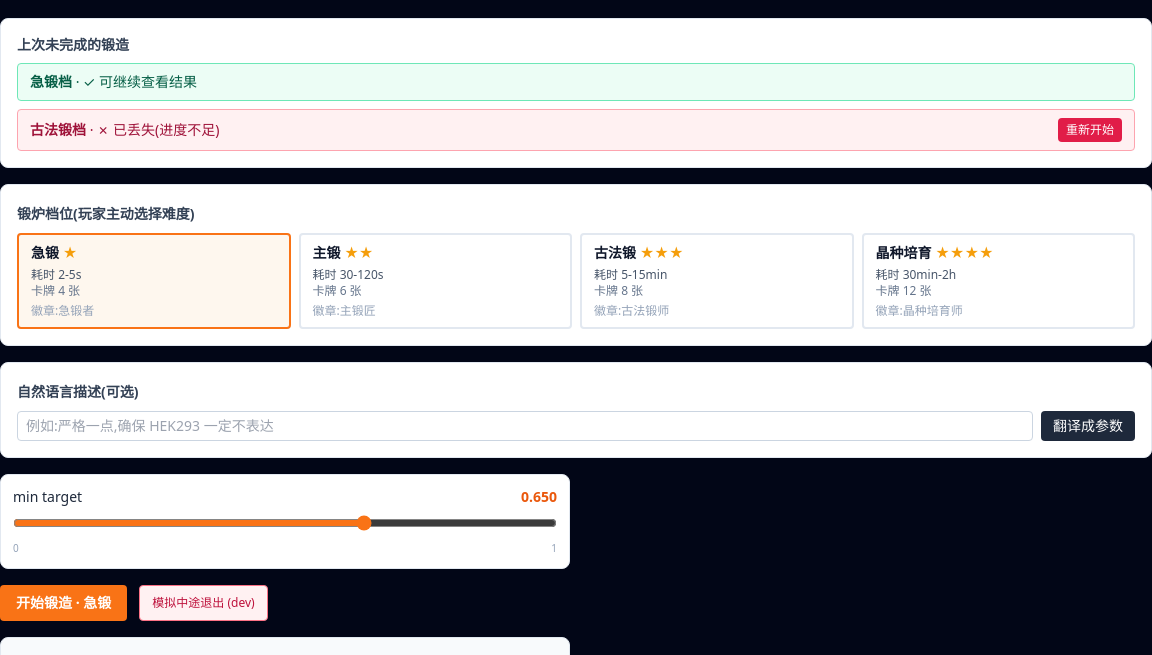
ForgePage · error banner (Phase 3 Task 6 P0-A2) › shows red "计算过程中出现错误" banner when errors are non-empty
Check: the element with test id "ritual-selector" is shown, box [0, 184, 1151, 346]
Click the button with test id "forge-run" at [64, 603], box [0, 585, 127, 621]
(page scrolled)
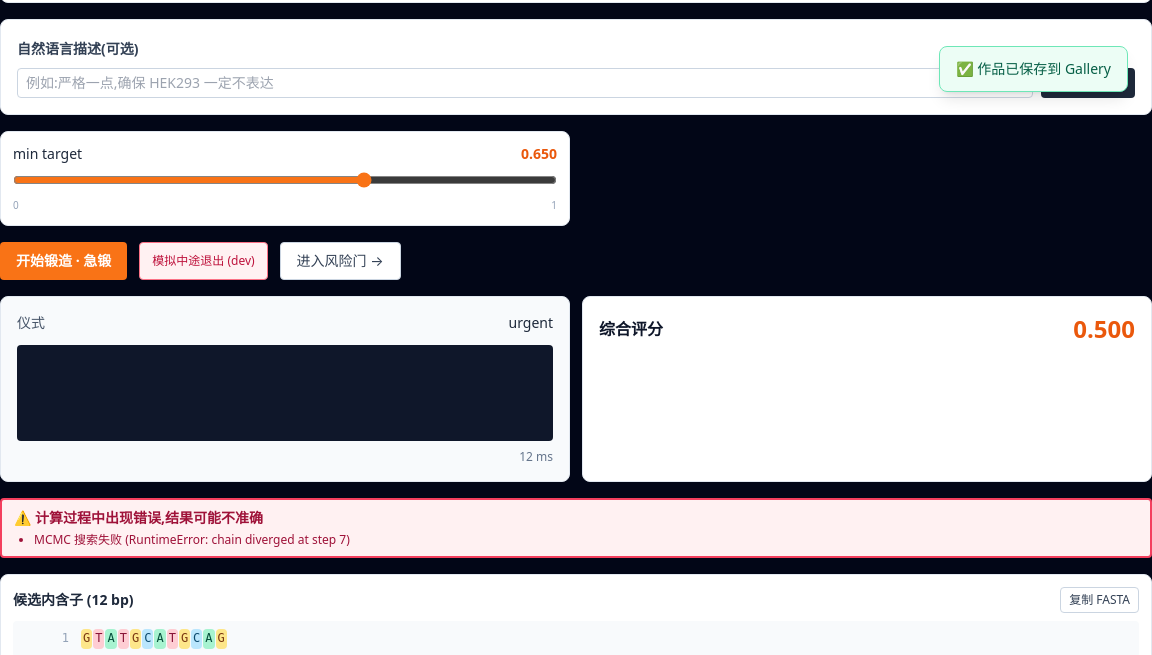
Check: the message "⚠️ 计算过程中出现错误,结果可能不准确 MCMC 搜索失败 (RuntimeError: chain diverged at step 7)" is shown, box [0, 498, 1151, 558]
Check: the message with test id "forge-error-banner" shows "计算过程中出现错误", box [14, 508, 263, 527]
Check: the message with test id "forge-error-banner" shows "结果可能不准确", box [14, 508, 263, 527]
